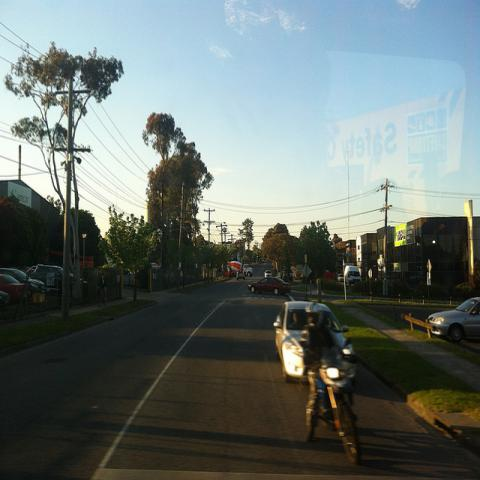car: (1, 273, 479, 343), (274, 300, 358, 384), (26, 265, 86, 292), (0, 268, 45, 293), (97, 263, 135, 288), (247, 277, 291, 296), (345, 266, 361, 286), (236, 270, 246, 280), (264, 270, 271, 277)
motorcycle: (314, 336, 362, 469)
